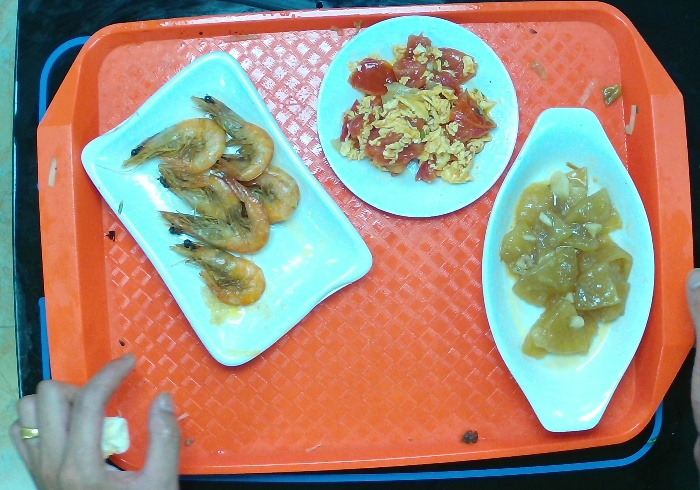RJxy-Si_Fang_Ao_Bian_Wan: (82, 49, 371, 373)
RJxy-Xiao_Yuan_Die: (313, 12, 518, 225)
RJxy-Yu_Pan: (483, 110, 655, 435)
